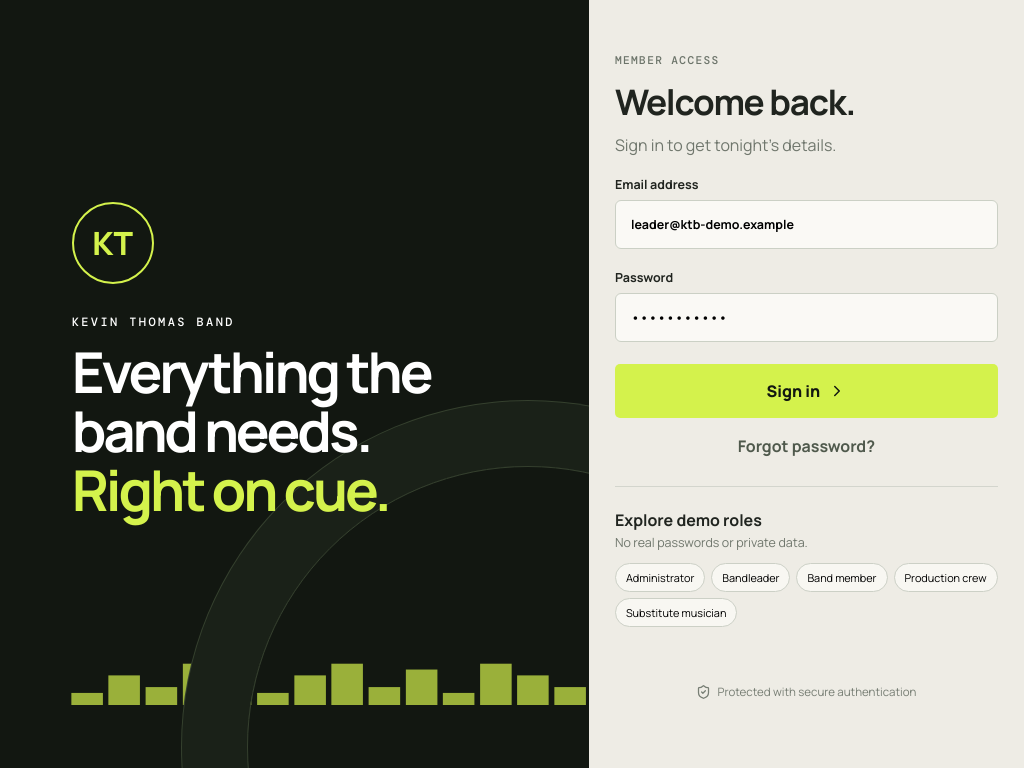
Band Hub › signs into the fictional demo and shows the next gig
The width and height of the screenshot is (1024, 768).
Click the button "Bandleader" at coordinates (751, 577), box [711,563,790,592]
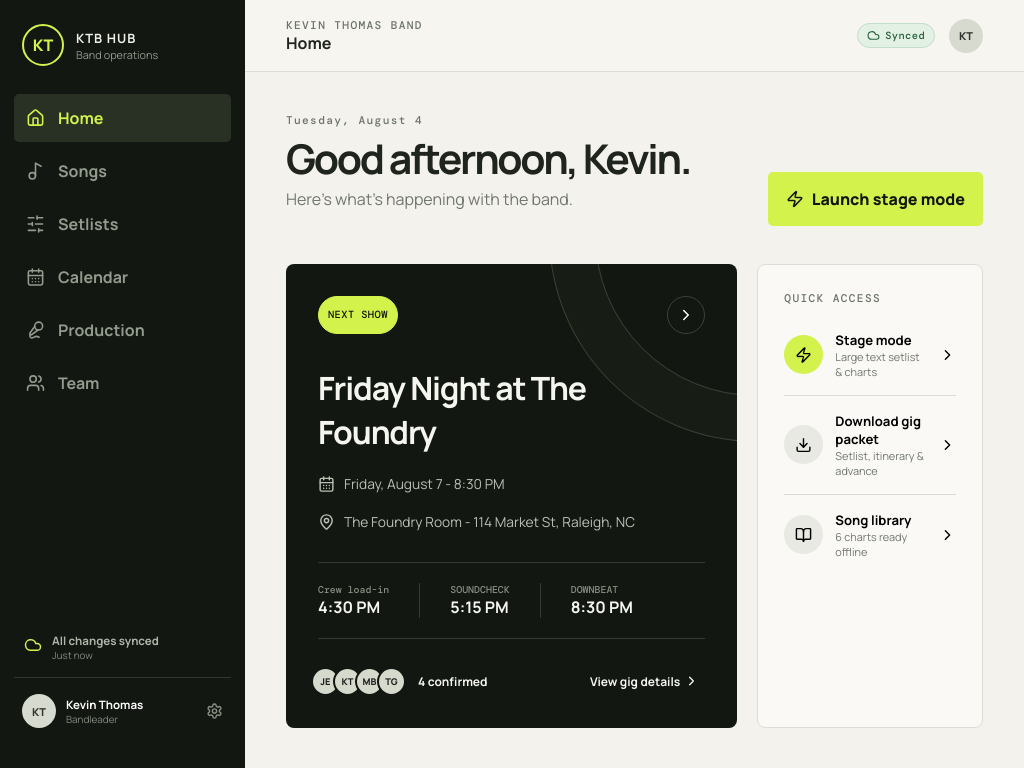
Now the heading "Good afternoon, Kevin." is shown, box [286,137,690,180]
Now the heading "Friday Night at The Foundry" is shown, box [318,366,586,454]
